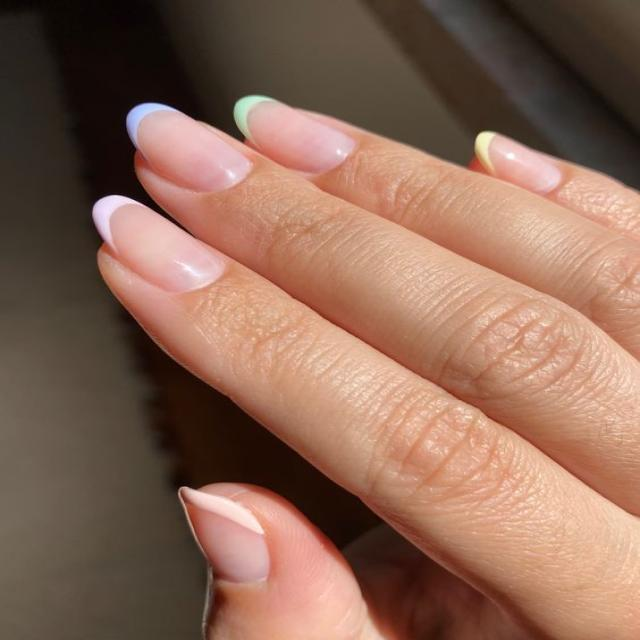Fingernail: (95, 195, 224, 293), (128, 102, 254, 194), (234, 92, 359, 174), (177, 487, 270, 584), (475, 133, 564, 194)
